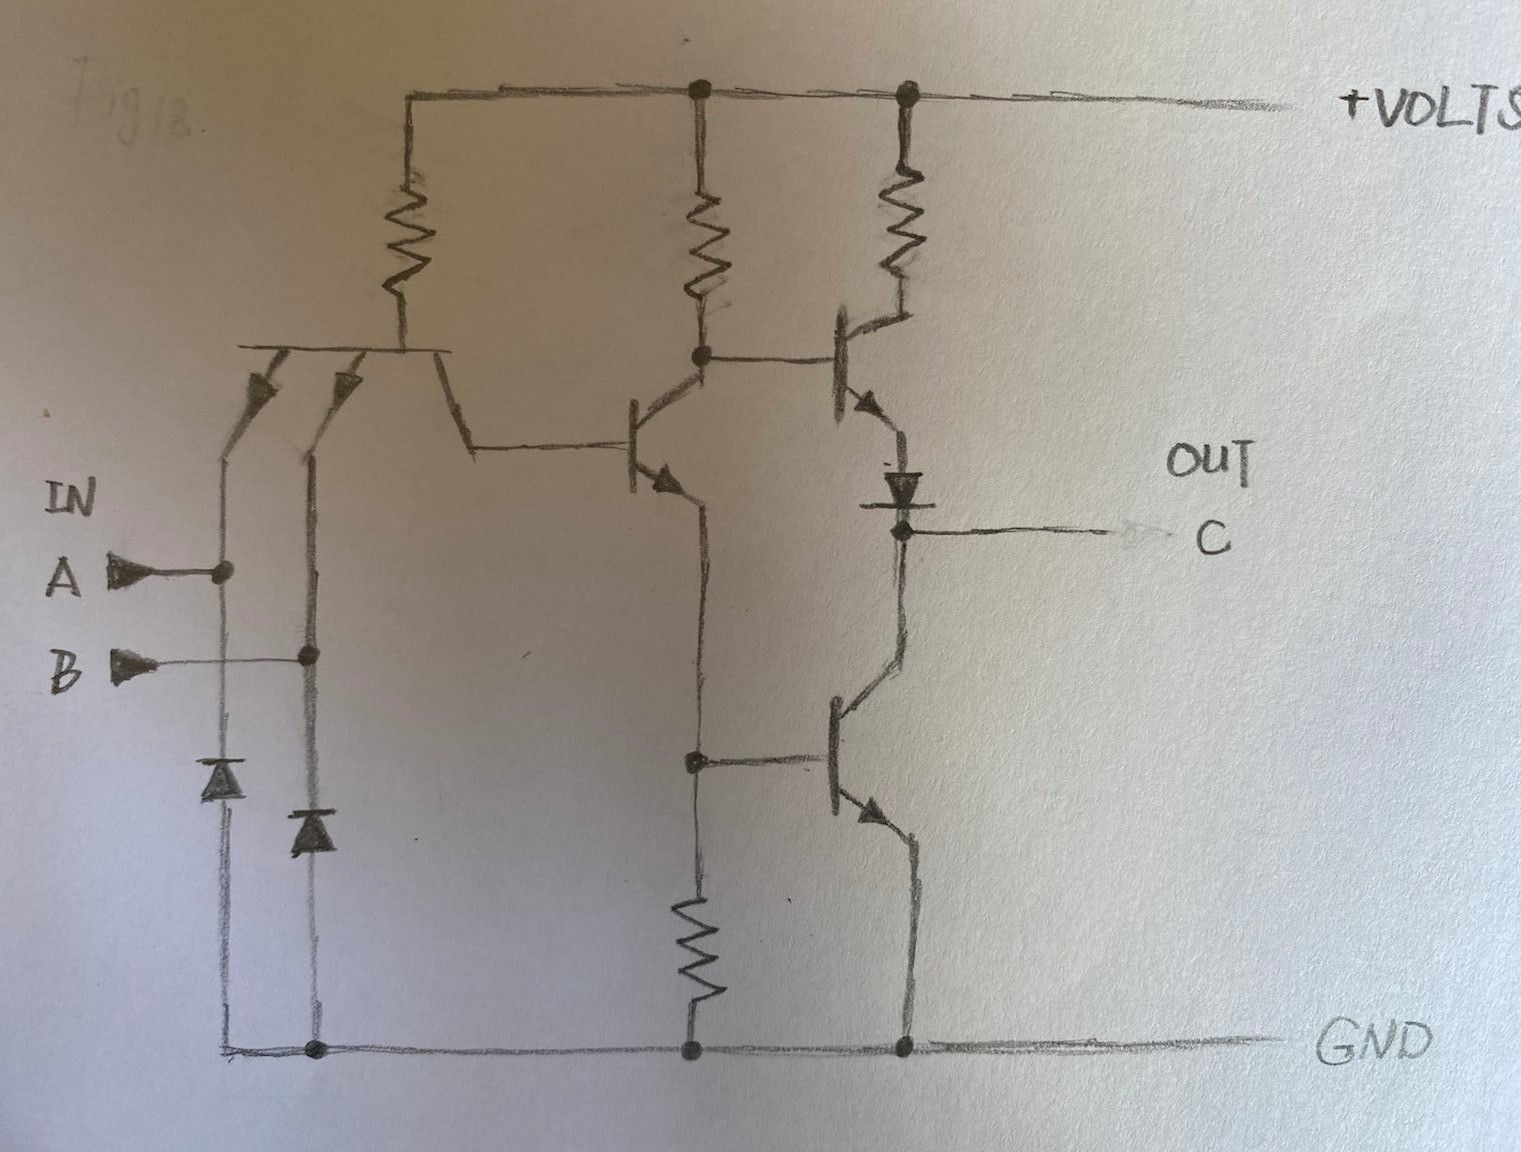crossover: (211, 649, 236, 673)
diode: (277, 799, 352, 865), (191, 744, 257, 814), (858, 463, 946, 514)
junction: (678, 741, 721, 784), (198, 551, 242, 591), (681, 71, 724, 109), (672, 1031, 709, 1072), (887, 1027, 924, 1069), (300, 1027, 334, 1070), (891, 76, 927, 115), (212, 1032, 247, 1071), (393, 77, 426, 119), (290, 635, 325, 672), (689, 332, 718, 368), (885, 517, 918, 547)
resistor: (673, 178, 737, 311), (870, 154, 937, 282), (662, 885, 730, 1010), (381, 168, 434, 303)
terminal: (100, 545, 167, 598), (104, 643, 168, 690), (1228, 1016, 1289, 1058), (1250, 83, 1307, 123), (1073, 512, 1133, 548)
text: (1375, 80, 1521, 140), (1310, 1009, 1436, 1072), (1162, 430, 1264, 495), (38, 467, 104, 525), (39, 551, 87, 605), (41, 643, 88, 698), (1189, 513, 1237, 561), (1335, 81, 1370, 126)
transistor: (209, 324, 496, 477), (814, 649, 937, 860), (823, 293, 927, 445), (618, 370, 714, 528)
